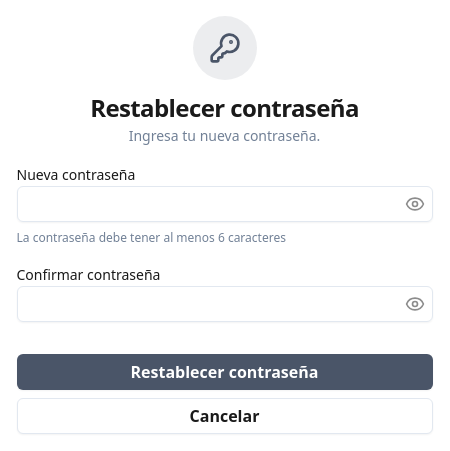
reset password exit destination › leaves someone with no console on the storefront root
The image size is (450, 451).
Type "clave-nueva-larga" into the password field labelled "Nueva contraseña" at (224, 204), box [16, 186, 432, 222]
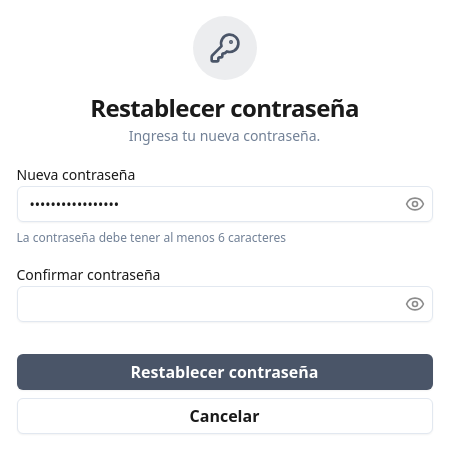
Type "clave-nueva-larga" into the password field labelled "Confirmar contraseña" at (224, 304), box [16, 286, 432, 322]
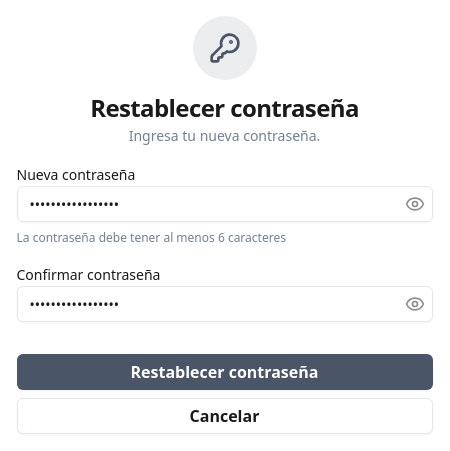
Click the button "Restablecer contraseña" at (224, 372), box [16, 354, 432, 390]
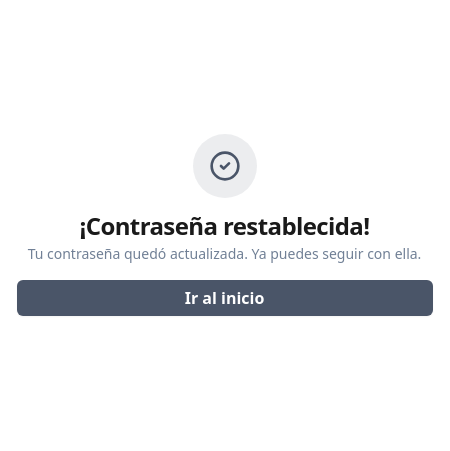
Expected: the heading "¡Contraseña restablecida!" is shown, [80, 209, 370, 242]
